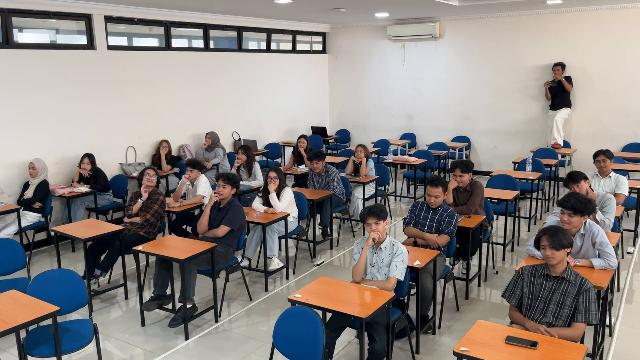bingung: (540, 241, 562, 264), (559, 207, 577, 229), (426, 187, 442, 207), (364, 220, 385, 234), (452, 171, 468, 186), (216, 181, 229, 198), (143, 172, 157, 186), (267, 172, 280, 185), (595, 159, 608, 172), (185, 167, 197, 178), (310, 161, 322, 172), (28, 163, 37, 177), (81, 158, 91, 170), (237, 150, 247, 161), (297, 139, 308, 148), (355, 148, 364, 158), (160, 143, 169, 152), (205, 134, 211, 144)
